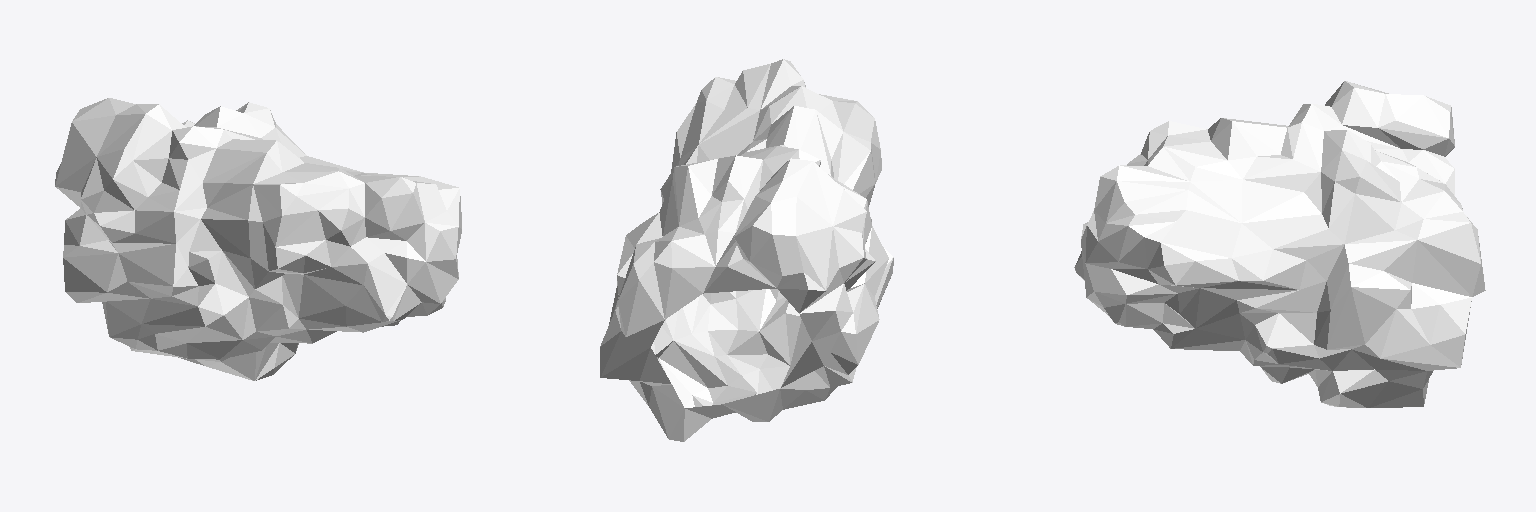
Rendered from Roca.obj.
3 renders of one model, left to right at view 1: azimuth 30°, elevation 25°; view 2: azimuth 150°, elevation 25°; view 3: azimuth 270°, elevation 25°, orthographic.
Parts seen in each view (by area): view 1: Rock2_snow; view 2: Rock2_snow; view 3: Rock2_snow.
Boxes of the visible parts, <box> form: Rock2_snow: <box>55,98,461,380</box>; Rock2_snow: <box>600,59,893,441</box>; Rock2_snow: <box>1074,81,1485,407</box>.
Size of the model in its own units: 0.001 by 0.0009 by 0.0013.